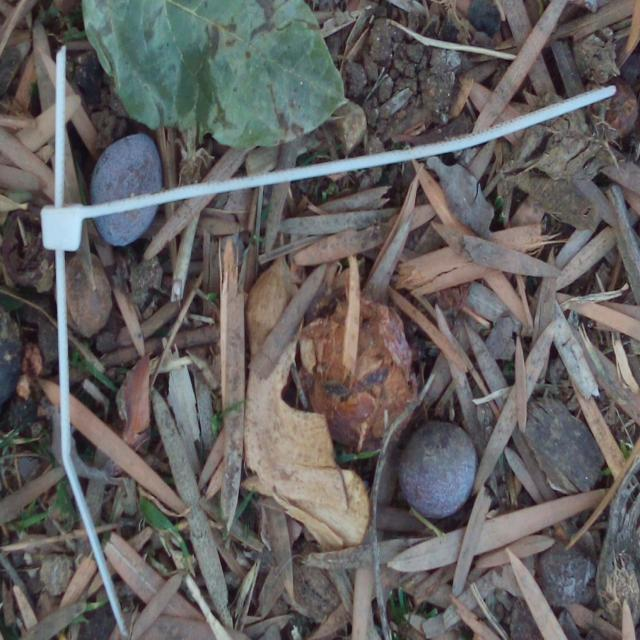litter: (38, 42, 622, 633)
